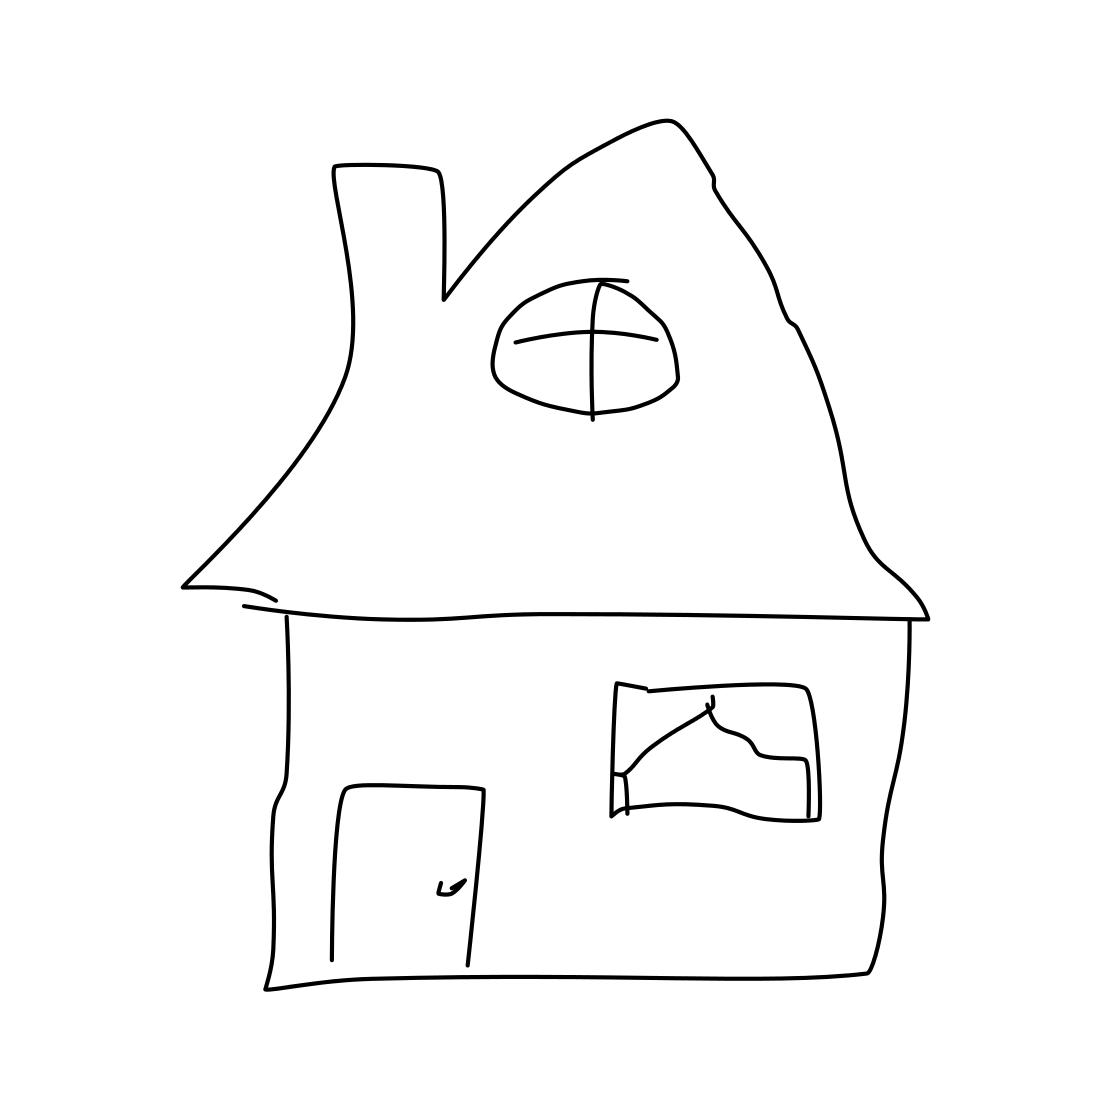chimney: (324, 145, 458, 382)
door: (332, 763, 486, 1006)
house: (152, 58, 940, 1043)
roof: (182, 90, 935, 640)
window: (596, 665, 830, 835), (477, 267, 692, 435)
